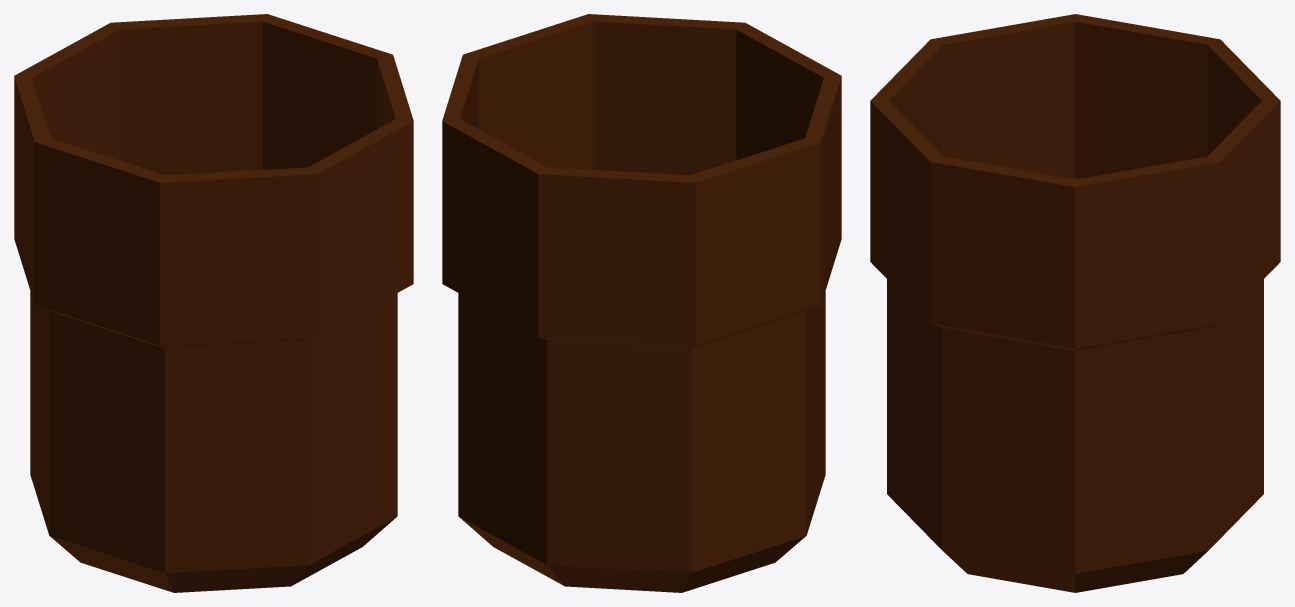
File: Glass.fbx
3 views of the same model, side by side, from view 1: azimuth 30°, elevation 25°; view 2: azimuth 150°, elevation 25°; view 3: azimuth 270°, elevation 25° (orthographic).
Visible parts, largest first — view 1: Cylinder; view 2: Cylinder; view 3: Cylinder.
Part boxes in pixels (x1,y1,x2,y2): Cylinder: (14, 14, 413, 592); Cylinder: (442, 14, 841, 592); Cylinder: (870, 14, 1280, 592).
Bounding box in the file's own units: 29.35 × 33.79 × 29.35.
